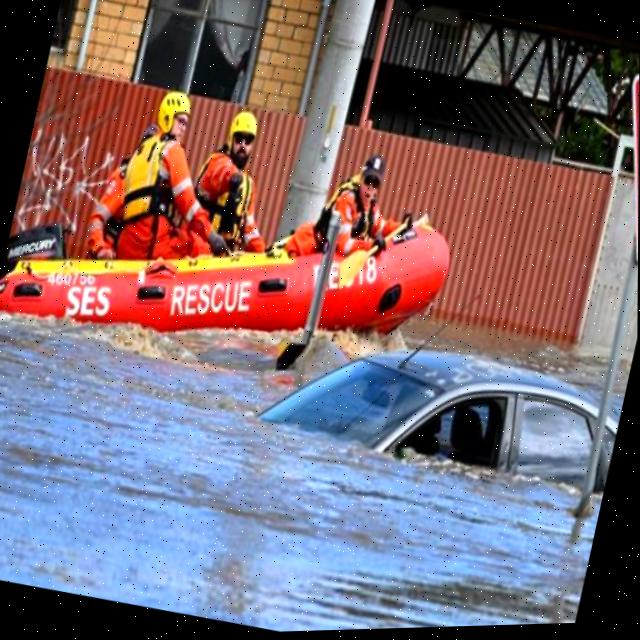rescuer: (111, 73, 258, 293), (259, 120, 420, 318), (168, 92, 294, 281), (68, 90, 175, 287)
